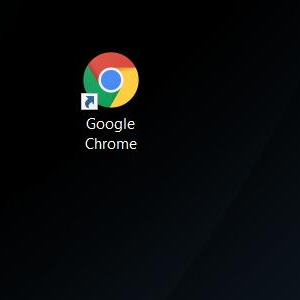chrome: (79, 51, 139, 111)
